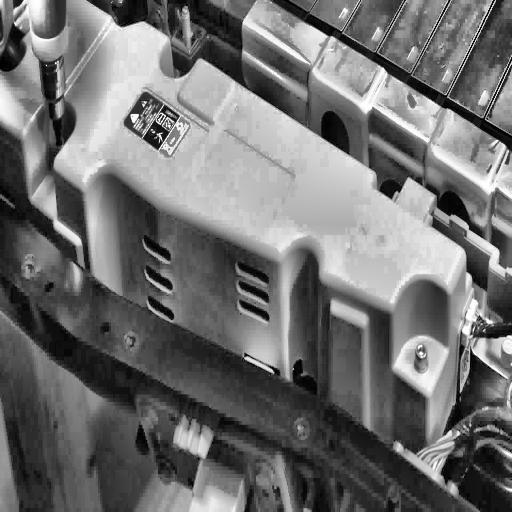busbar: (0, 0, 471, 453)
